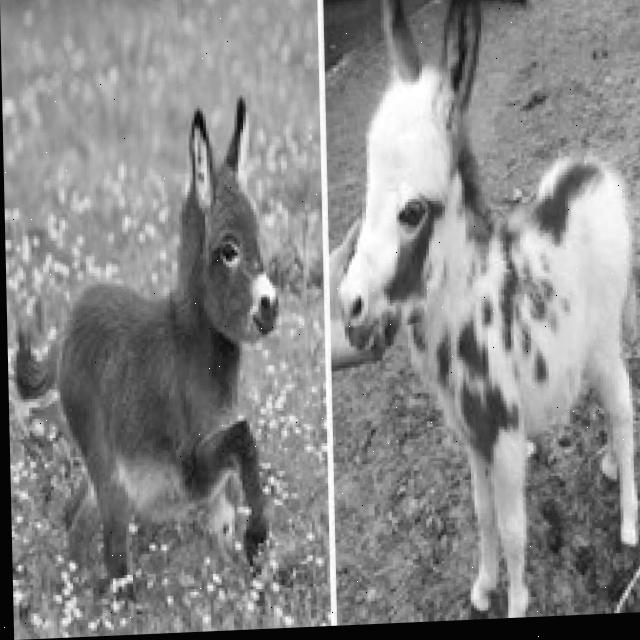Donkey: (328, 0, 640, 622), (5, 93, 285, 605)
